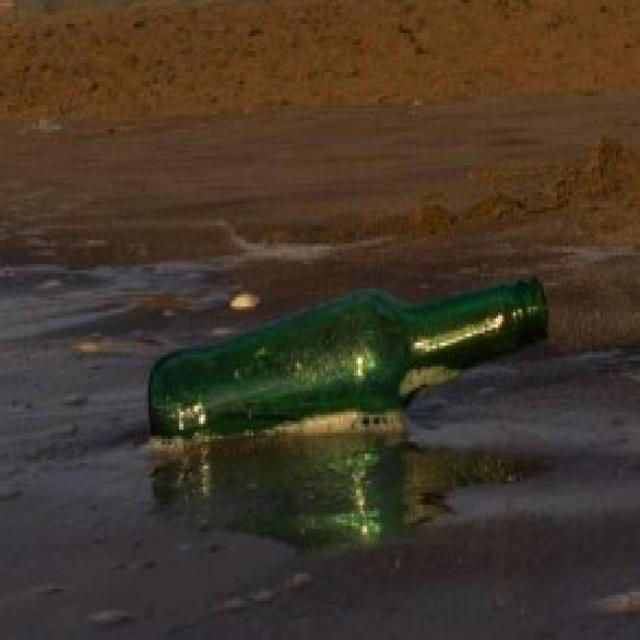electronic: (148, 281, 547, 444)
